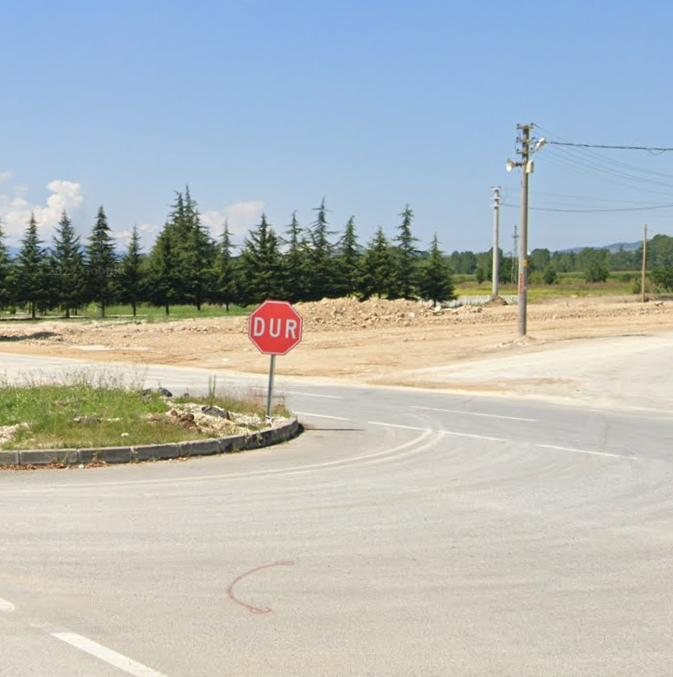stop: (251, 301, 301, 355)
